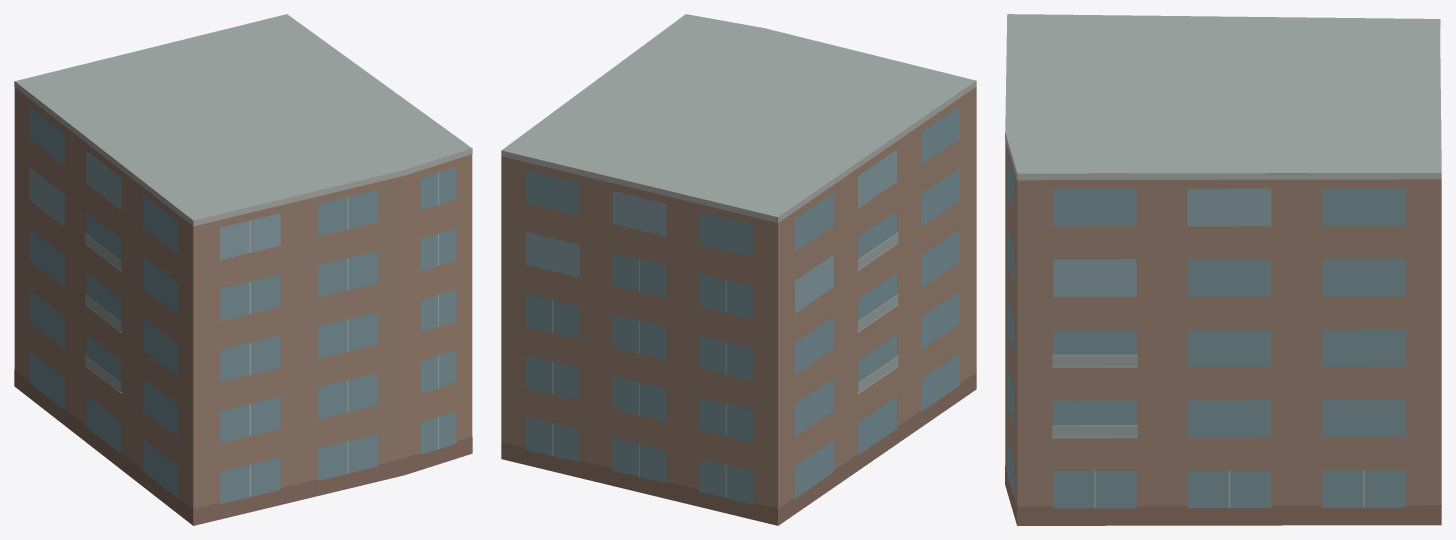
The model's file is survey-upis-33038255.glb.
3 renders of one model, left to right at view 1: azimuth 30°, elevation 25°; view 2: azimuth 150°, elevation 25°; view 3: azimuth 270°, elevation 25°, orthographic. The views are drawn at different scales.
Parts seen in each view (by area): view 1: survey-upis-33038255.tmp; view 2: survey-upis-33038255.tmp; view 3: survey-upis-33038255.tmp.
Part boxes in pixels (left/top/right/bottom): survey-upis-33038255.tmp: left=14, top=14, right=472, bottom=525; survey-upis-33038255.tmp: left=501, top=14, right=976, bottom=525; survey-upis-33038255.tmp: left=1005, top=14, right=1441, bottom=525.
Bounding box in the file's own units: 12.67 × 13 × 14.61.
